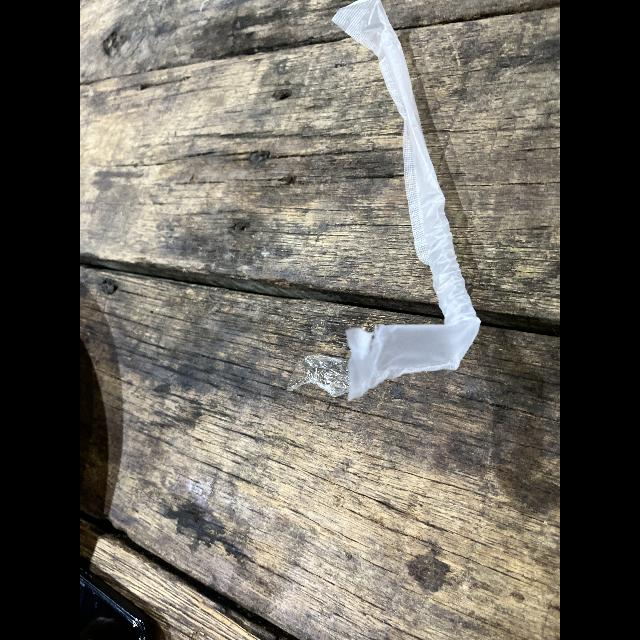scrap_plastic: (326, 1, 484, 396), (301, 352, 347, 393)
